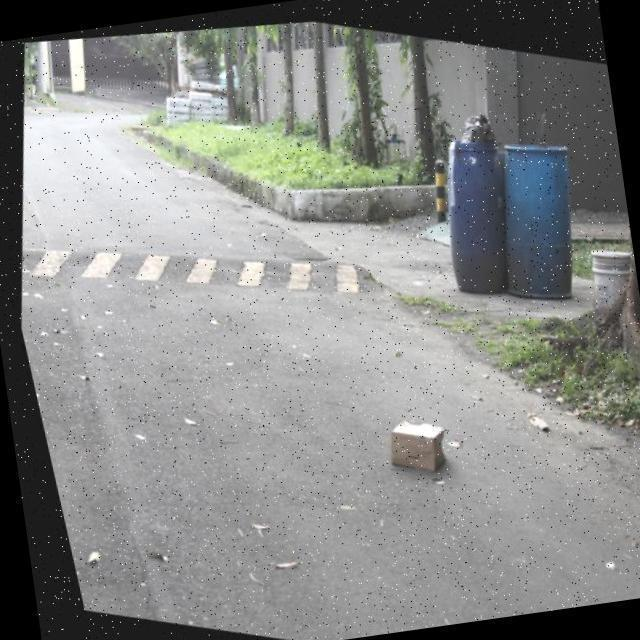Paper_Bag: (372, 406, 449, 478)
